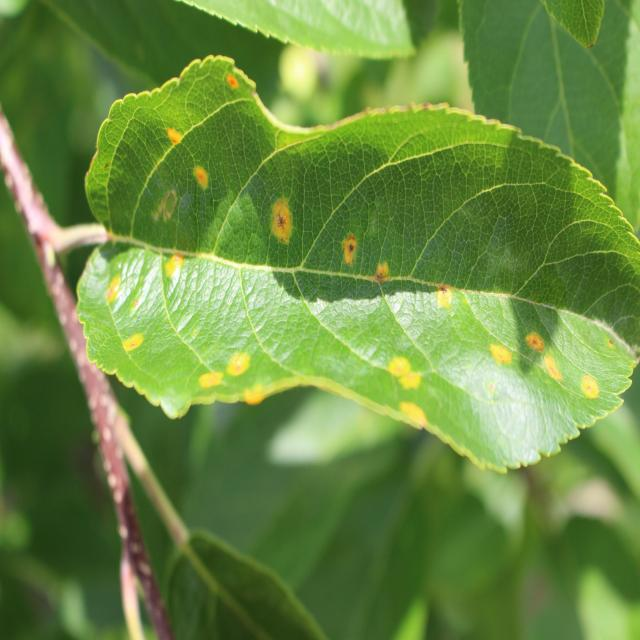Rust: (158, 225, 192, 296), (264, 188, 296, 262), (481, 320, 515, 382), (395, 394, 435, 440), (383, 354, 428, 394), (542, 341, 566, 403), (434, 273, 461, 326), (342, 213, 362, 284), (188, 156, 216, 206), (192, 363, 233, 396), (574, 364, 608, 403), (162, 112, 189, 160), (115, 324, 149, 362), (104, 267, 128, 314), (222, 52, 242, 108), (229, 337, 253, 383), (371, 256, 395, 300), (524, 319, 546, 357)
